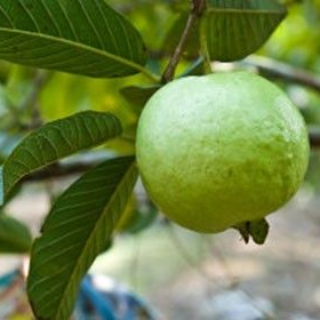oi: (137, 73, 312, 246)
